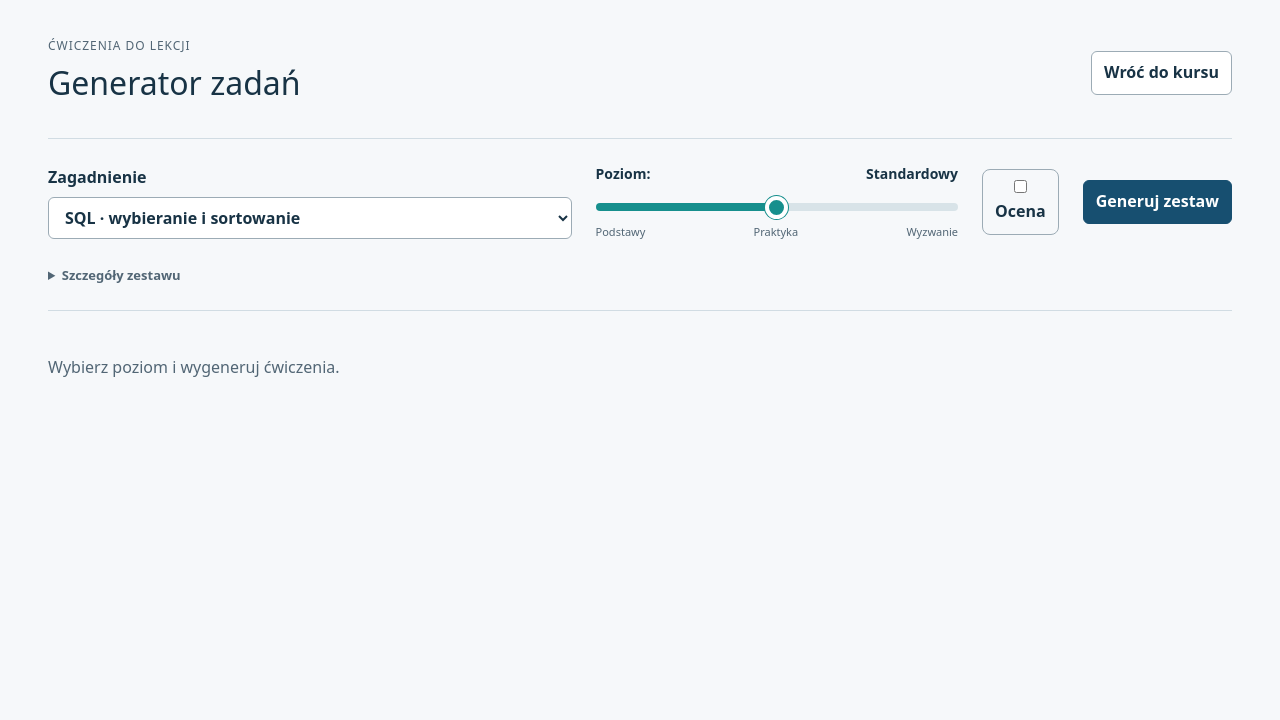
generates a seeded task, edits files and requires student ID for an immutable submission
Earlier steps of the test are not shown.
Later steps or results of the test are not shown.
Click the button "Generuj zestaw".
click(1157, 202)  # box [1083,180,1232,224]
(page scrolled)
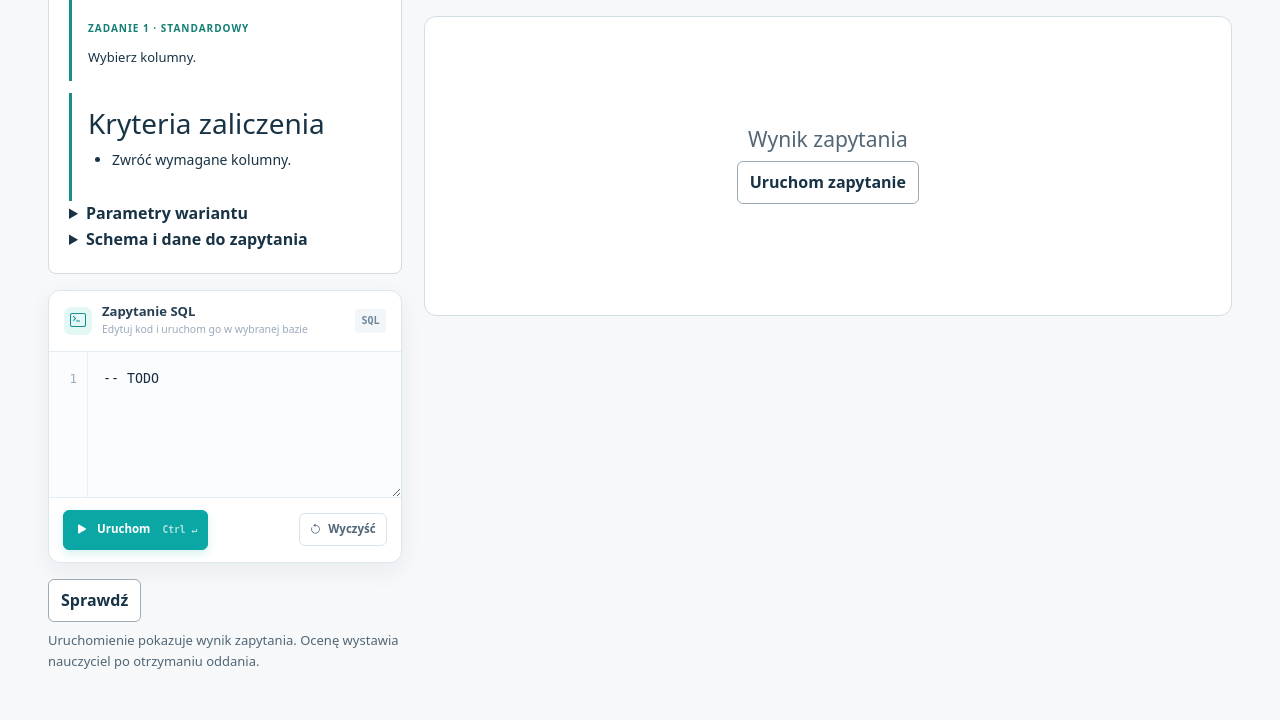
Check: the text "Wybierz kolumny." is shown, box [88,48,196,66]
Replace the text in the text box named "Zapytanie SQL" with "SELECT 1" at [244, 424], box [88,352,401,497]
(page scrolled)
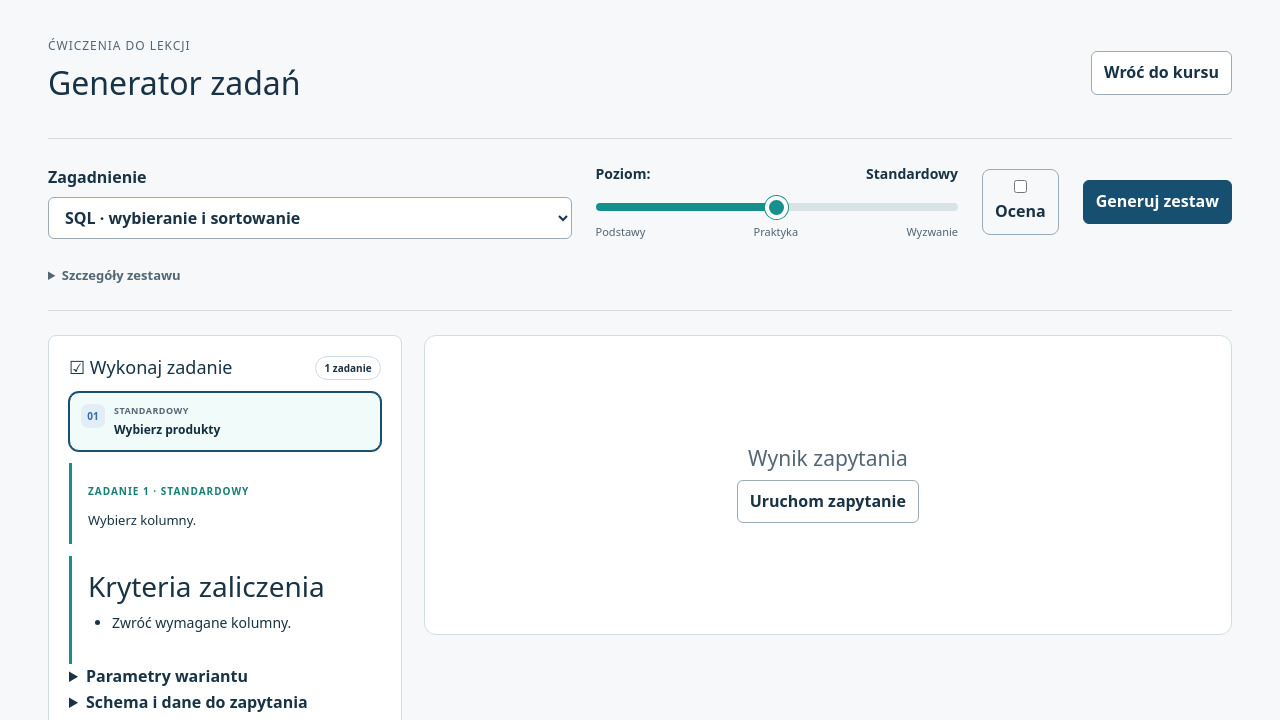
Check: the tab "01 Standardowy Wybierz produkty" is shown, box [69,392,381,451]
